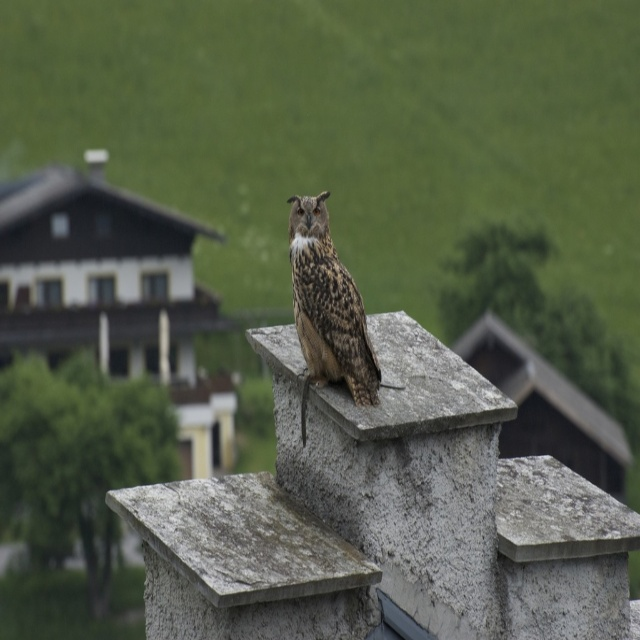Owl: (291, 189, 386, 412)
